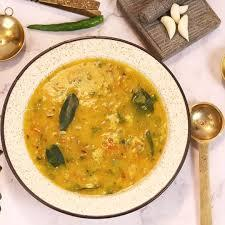varan: (27, 59, 164, 186)
